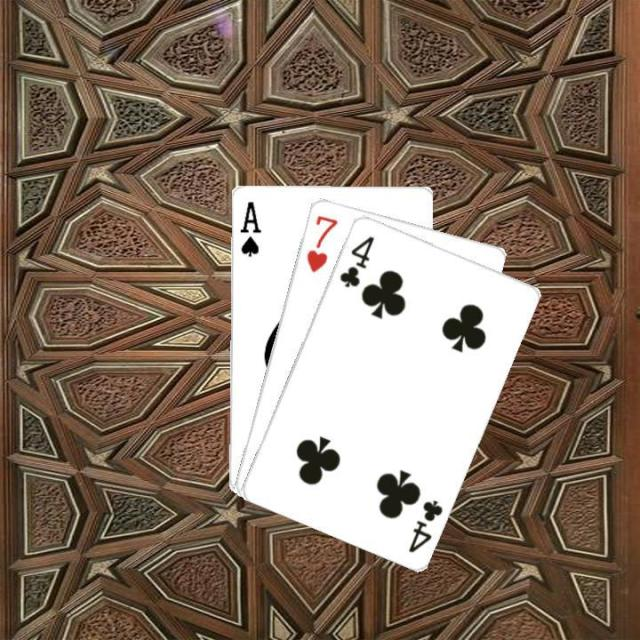4C: (335, 231, 376, 289), (404, 495, 444, 554)
7H: (302, 210, 340, 274)
AS: (235, 196, 262, 258)
